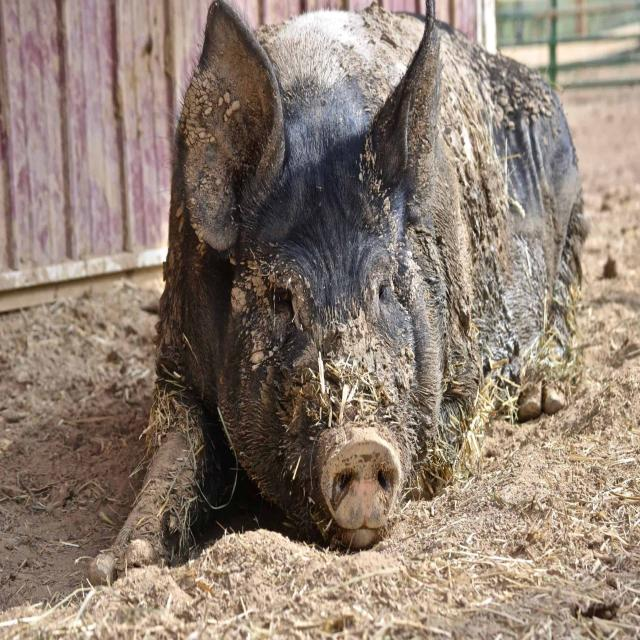Pig: (88, 3, 589, 584)
